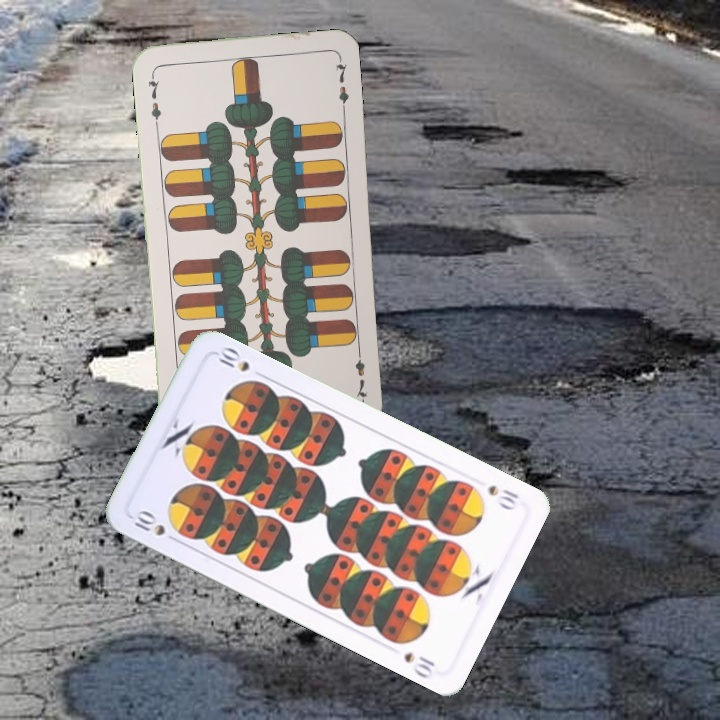E7: (144, 68, 164, 127), (351, 343, 369, 402)
S10: (126, 506, 182, 546), (484, 481, 522, 513)
